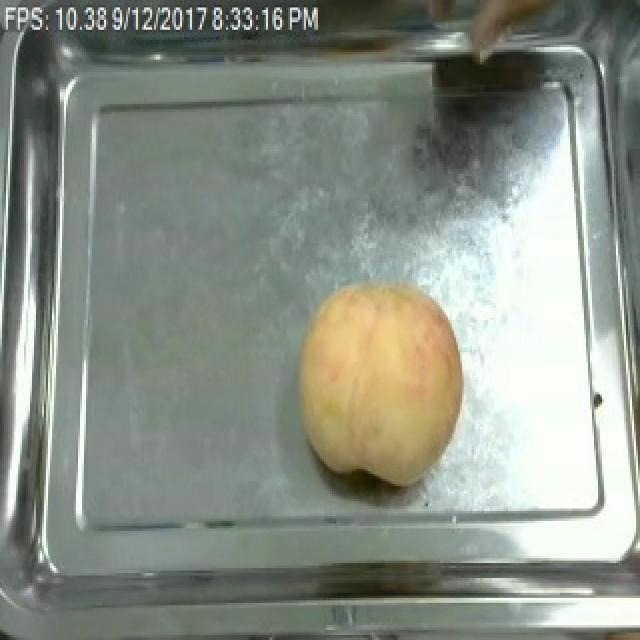Fruit: (286, 270, 474, 492)
